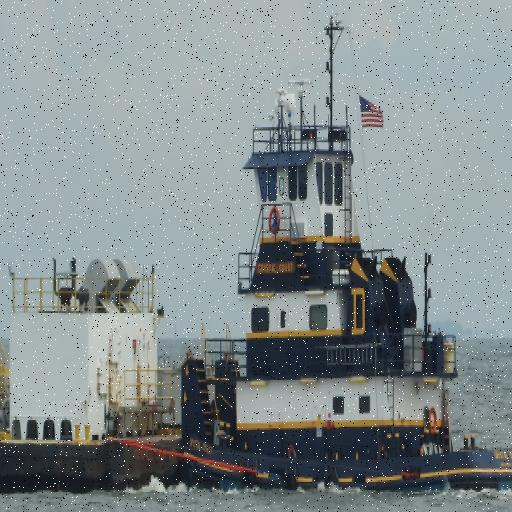tugboat: (178, 72, 512, 506)
